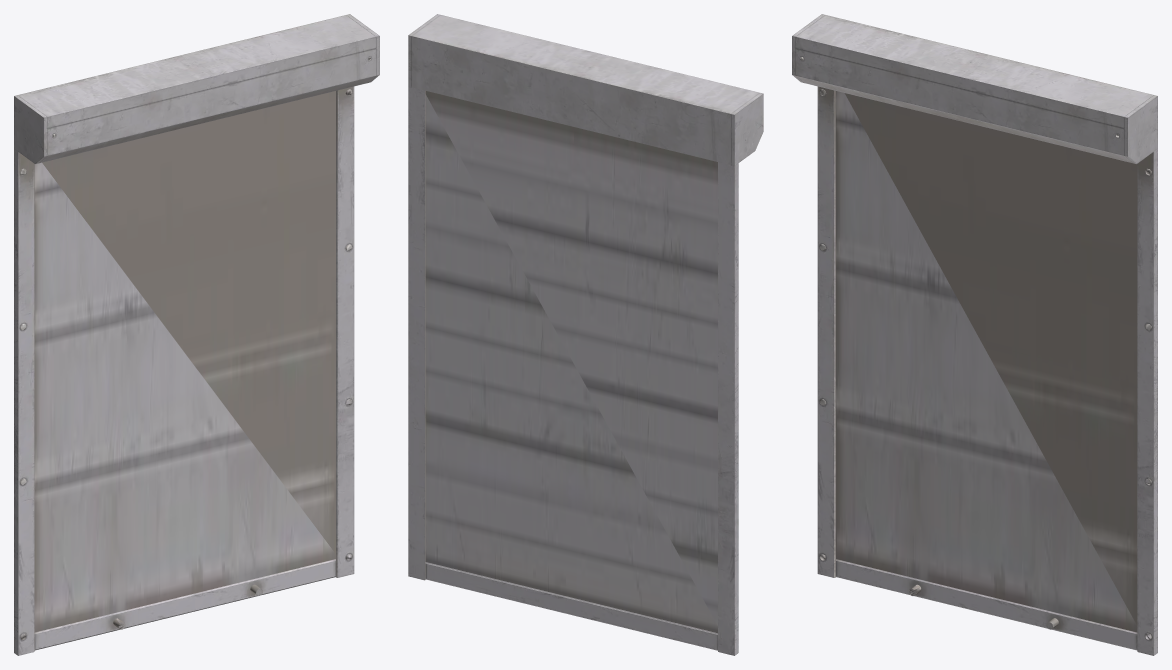
The model's file is rollershutter-window-03.glb.
3 views of the same model, side by side, from view 1: azimuth 30°, elevation 25°; view 2: azimuth 150°, elevation 25°; view 3: azimuth 330°, elevation 25° (orthographic). The views are drawn at different scales.
Parts seen in each view (by area): view 1: rollershutter_window_03; view 2: rollershutter_window_03; view 3: rollershutter_window_03.
Boxes of the visible parts, <box> form: rollershutter_window_03: <box>14,14,379,655</box>; rollershutter_window_03: <box>408,14,763,655</box>; rollershutter_window_03: <box>792,14,1157,655</box>.
Size of the model in its own units: 0.9762 by 1.55 by 0.1531.
1 material, 1 textured.
